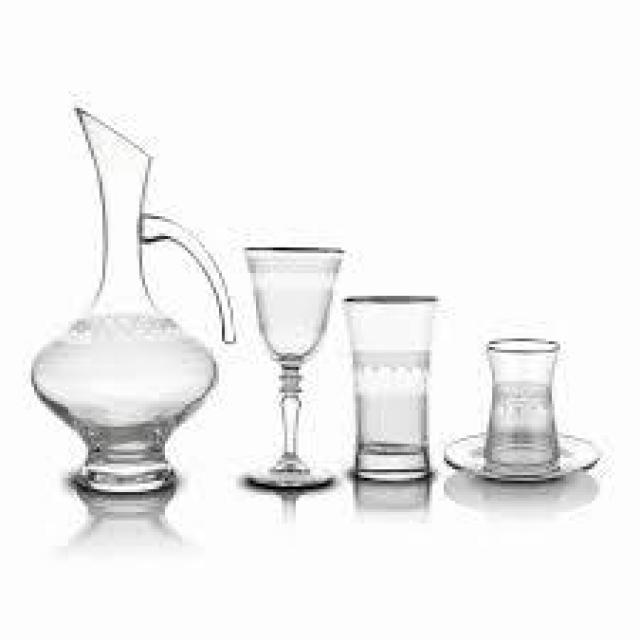non-organic waste: (26, 104, 239, 496), (238, 243, 346, 502), (439, 336, 602, 480), (343, 294, 439, 480)
